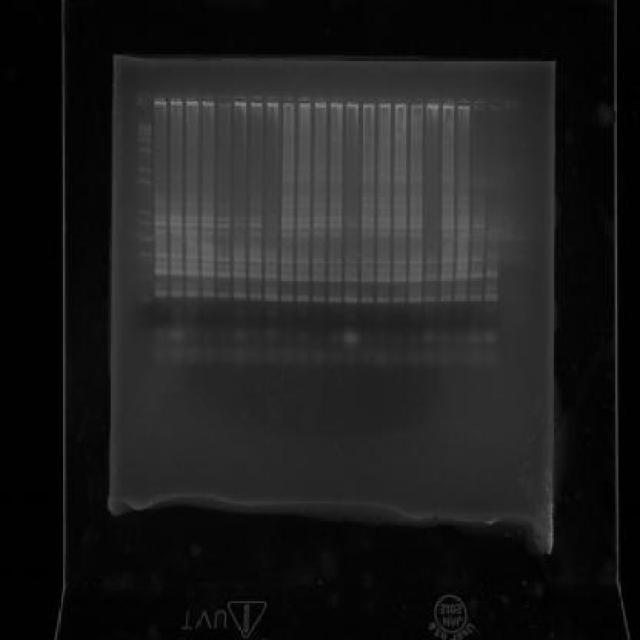B: (264, 270, 280, 282), (232, 290, 248, 301), (248, 290, 262, 302), (184, 268, 200, 278), (264, 292, 280, 302), (279, 292, 295, 302), (279, 272, 295, 282), (295, 264, 311, 274), (310, 264, 326, 274), (310, 256, 326, 266), (438, 272, 454, 282), (391, 274, 407, 284), (343, 294, 359, 304), (154, 266, 168, 277), (217, 290, 231, 301), (407, 294, 422, 304), (327, 294, 342, 304), (216, 270, 232, 279), (310, 273, 326, 282), (310, 294, 326, 303), (453, 293, 469, 302), (422, 294, 438, 303), (391, 257, 407, 266), (170, 288, 184, 298), (201, 290, 216, 299), (484, 293, 499, 302), (484, 283, 499, 292), (454, 271, 469, 280), (344, 274, 359, 283), (184, 253, 200, 261), (184, 290, 200, 298), (248, 222, 264, 230), (264, 264, 280, 272), (263, 256, 279, 264), (280, 223, 296, 231), (295, 223, 311, 231), (294, 257, 310, 265), (468, 272, 484, 280), (453, 286, 469, 294), (440, 216, 456, 224), (408, 232, 424, 240), (408, 257, 424, 265), (408, 266, 424, 274), (423, 274, 439, 282), (392, 223, 408, 231), (392, 267, 408, 275), (374, 296, 390, 304), (376, 267, 392, 275), (360, 275, 376, 283), (343, 257, 359, 265), (393, 202, 409, 210), (360, 194, 376, 202), (468, 263, 484, 271), (170, 268, 184, 277), (248, 230, 262, 239), (248, 263, 262, 272), (280, 257, 294, 266), (296, 273, 310, 282), (438, 293, 452, 302), (184, 220, 199, 228), (184, 213, 199, 221), (201, 270, 216, 278), (484, 270, 499, 278), (408, 274, 423, 282), (391, 296, 406, 304), (327, 274, 342, 282), (344, 265, 359, 273), (154, 228, 168, 236), (154, 220, 168, 228), (184, 228, 198, 236), (154, 252, 168, 260), (154, 258, 168, 266), (154, 290, 168, 298), (154, 199, 168, 207), (200, 229, 214, 237), (169, 260, 183, 268), (216, 255, 230, 263), (217, 222, 231, 230), (217, 215, 231, 223), (216, 230, 230, 238), (486, 252, 500, 260), (232, 272, 246, 280), (233, 264, 247, 272), (232, 256, 246, 264), (233, 222, 247, 230), (248, 272, 262, 280), (280, 230, 294, 238), (280, 216, 294, 224), (296, 232, 310, 240), (296, 294, 310, 302), (312, 230, 326, 238), (312, 222, 326, 230), (280, 194, 294, 202), (280, 202, 294, 210), (280, 175, 294, 183), (468, 294, 482, 302), (456, 256, 470, 264), (456, 230, 470, 238), (440, 257, 454, 265), (440, 223, 454, 231), (440, 202, 454, 210), (410, 223, 424, 231), (393, 230, 407, 238), (393, 216, 407, 224), (376, 275, 390, 283), (376, 258, 390, 266), (377, 230, 391, 238), (377, 223, 391, 231), (360, 296, 374, 304), (328, 267, 342, 275), (328, 257, 342, 265), (360, 258, 374, 266), (360, 266, 374, 274), (328, 222, 342, 230), (360, 222, 374, 230), (360, 215, 374, 223), (360, 230, 374, 238), (455, 264, 468, 272), (312, 215, 326, 222), (170, 228, 182, 236), (170, 220, 182, 228), (184, 261, 200, 267), (170, 200, 182, 208), (232, 216, 248, 222), (248, 216, 264, 222), (279, 266, 295, 272), (296, 216, 312, 222), (456, 196, 472, 202), (440, 196, 456, 202), (408, 178, 424, 184), (408, 196, 424, 202), (408, 217, 424, 223), (376, 217, 392, 223), (488, 227, 500, 235), (328, 232, 343, 238), (344, 223, 359, 229), (154, 213, 168, 219), (168, 214, 182, 220), (200, 216, 214, 222), (200, 222, 214, 228), (200, 256, 214, 262), (200, 262, 214, 268), (169, 253, 183, 259), (216, 263, 230, 269), (184, 201, 198, 207), (248, 257, 262, 263), (297, 194, 311, 200), (297, 164, 311, 170), (280, 166, 294, 172), (470, 256, 484, 262), (472, 223, 486, 229), (472, 218, 486, 224), (456, 224, 470, 230), (456, 217, 470, 223), (457, 203, 471, 209), (440, 266, 454, 272), (440, 232, 454, 238), (442, 178, 456, 184), (409, 203, 423, 209), (424, 258, 438, 264), (328, 216, 342, 222), (393, 194, 407, 200), (393, 210, 407, 216), (377, 194, 391, 200), (360, 203, 374, 209), (328, 202, 342, 208), (312, 202, 326, 208), (313, 164, 327, 170), (297, 176, 311, 182), (297, 202, 311, 208), (488, 235, 500, 242), (154, 192, 166, 198), (330, 176, 342, 182), (440, 166, 454, 171), (361, 166, 374, 171), (330, 165, 342, 170), (442, 176, 456, 178)
L: (132, 94, 525, 115)
M: (134, 119, 154, 308)
P: (136, 252, 152, 260), (136, 218, 152, 226), (136, 235, 152, 242), (137, 208, 151, 216), (137, 177, 151, 185), (137, 166, 151, 174), (138, 136, 152, 144), (136, 296, 153, 302), (138, 147, 152, 153), (137, 132, 151, 136), (138, 128, 152, 132)
Pc: (361, 96, 377, 112), (328, 96, 346, 110), (378, 96, 393, 112), (394, 96, 408, 113), (424, 98, 442, 111), (234, 95, 248, 111), (313, 96, 329, 110), (136, 95, 153, 108), (504, 99, 521, 112), (184, 96, 199, 110), (265, 96, 281, 109), (472, 98, 488, 111), (154, 94, 168, 108), (250, 96, 264, 110), (282, 96, 296, 110), (298, 96, 312, 110), (201, 95, 216, 108), (217, 95, 232, 108), (457, 98, 472, 111), (488, 100, 504, 112), (169, 95, 183, 108), (346, 98, 360, 111), (442, 98, 456, 111), (410, 98, 424, 111)
